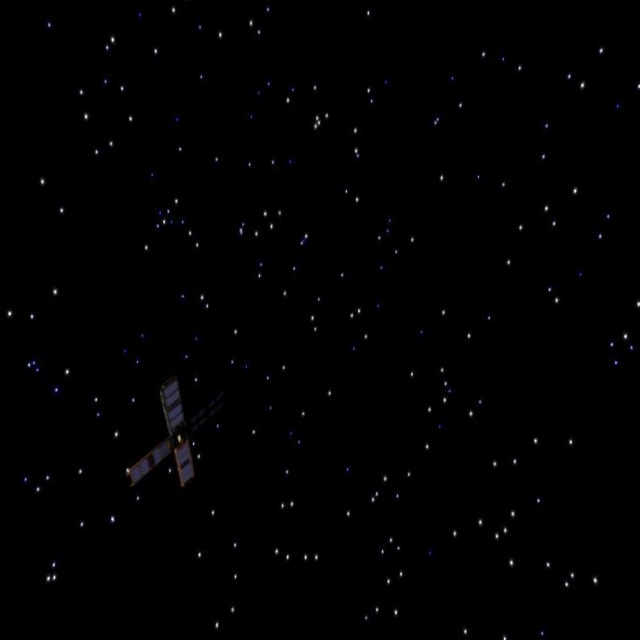satellite: (124, 365, 261, 499)
